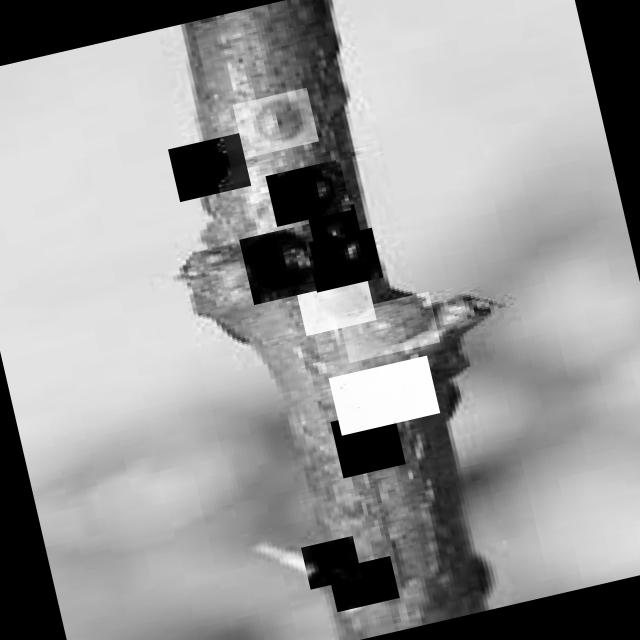scale_insect: (327, 355, 439, 435), (238, 220, 334, 304), (337, 291, 439, 363), (232, 87, 318, 158), (292, 263, 375, 336), (264, 158, 350, 226), (167, 132, 250, 202), (330, 407, 404, 478), (304, 228, 382, 292), (326, 556, 398, 612), (300, 536, 361, 590), (306, 203, 360, 245)
